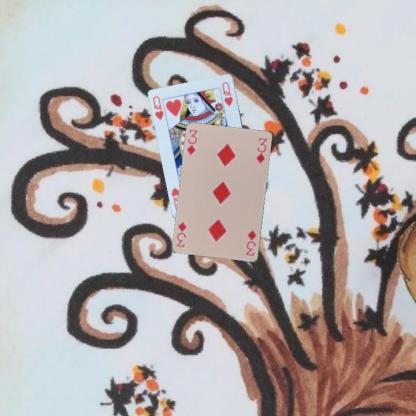3d: (184, 127, 199, 157), (243, 228, 258, 257)
Qh: (150, 94, 165, 121)
